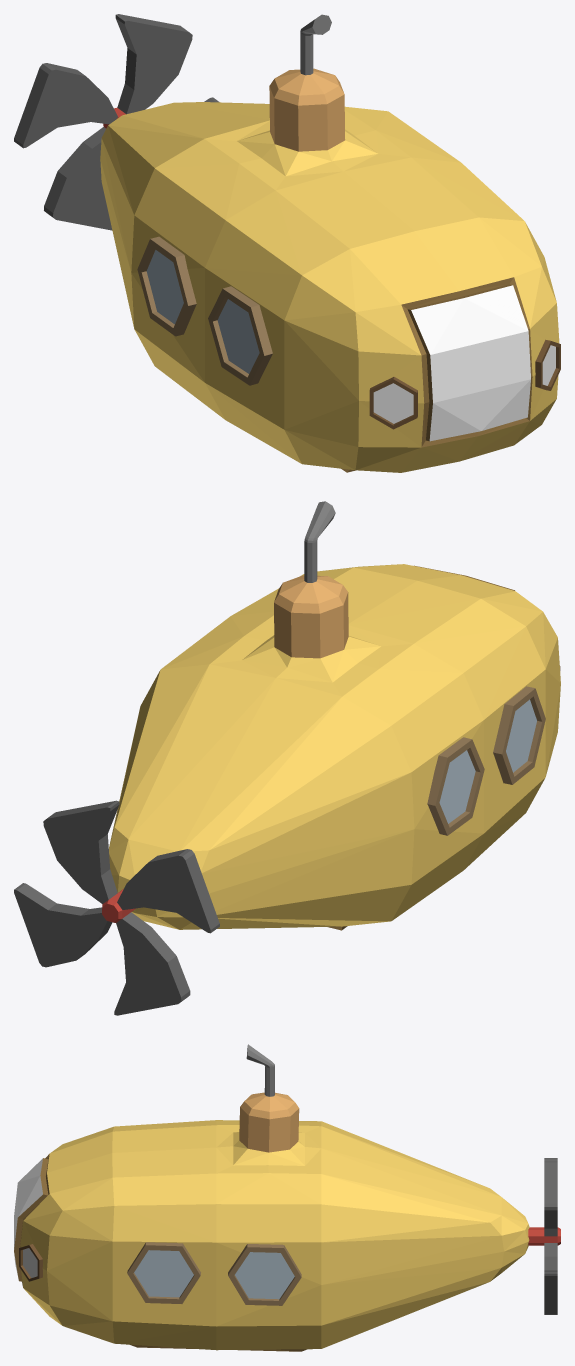
File: kapal selam.dae
3 renders of one model, top to bottom at view 1: azimuth 30°, elevation 25°; view 2: azimuth 150°, elevation 25°; view 3: azimuth 270°, elevation 25°, orthographic. The views are drawn at different scales.
Visible parts, largest first — view 1: Cube, Cylinder, Cylinder.001, Cylinder.002, Cylinder.005, Cylinder.006; view 2: Cube, Cylinder, Cylinder.002, Cylinder.001; view 3: Cube, Cylinder.004, Cylinder.003, Cylinder, Cylinder.006.
Boxes of the visible parts, x1,y1,x2,y2 form: Cube: [100, 14, 559, 472]; Cylinder: [14, 14, 219, 230]; Cylinder.001: [208, 286, 272, 385]; Cylinder.002: [137, 236, 196, 336]; Cylinder.005: [369, 377, 417, 429]; Cylinder.006: [535, 339, 560, 390]; Cube: [109, 501, 560, 930]; Cylinder: [14, 800, 219, 1015]; Cylinder.002: [427, 737, 484, 835]; Cylinder.001: [493, 686, 545, 784]; Cube: [14, 1044, 529, 1351]; Cylinder.004: [228, 1244, 301, 1305]; Cylinder.003: [127, 1242, 200, 1303]; Cylinder: [528, 1158, 560, 1314]; Cylinder.006: [19, 1244, 42, 1281].
Size of the model in its own units: 2.91 by 6.38 by 3.71.
